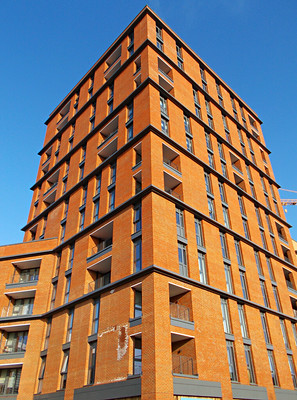high: (21, 4, 297, 400)
